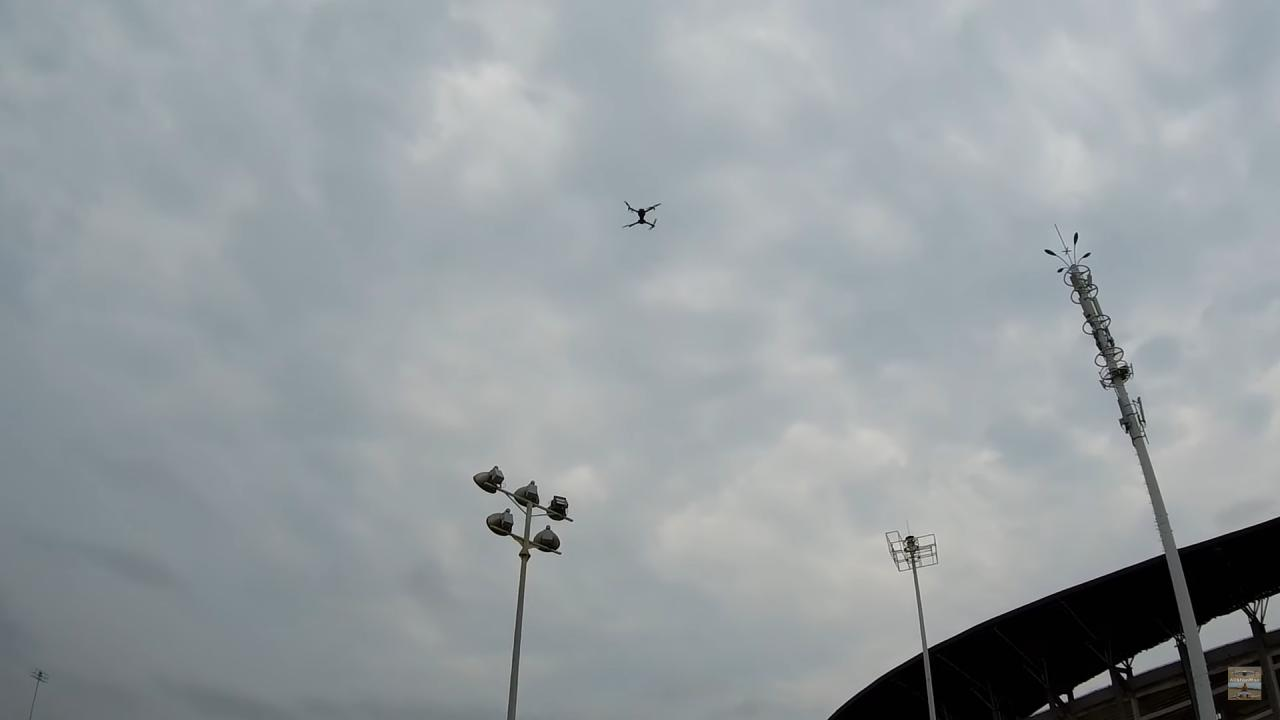Drone: (615, 192, 668, 240)
